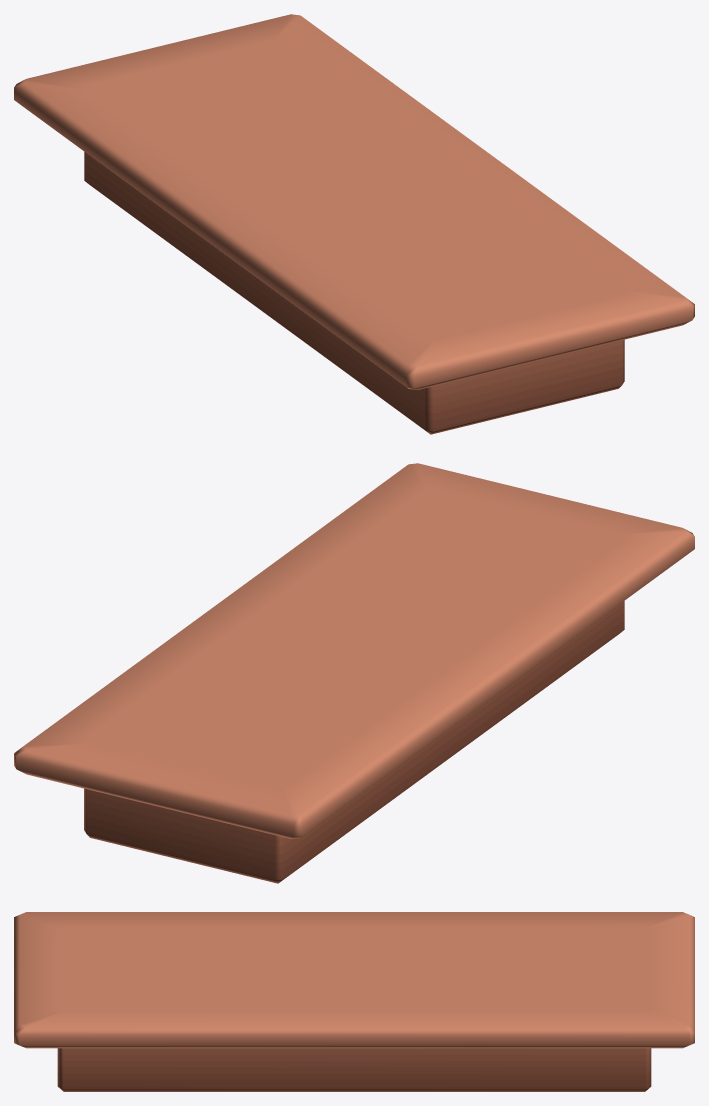
File: SM_Table_01.fbx
3 views of the same model, one above another, from view 1: azimuth 30°, elevation 25°; view 2: azimuth 150°, elevation 25°; view 3: azimuth 270°, elevation 25° (orthographic). The views are drawn at different scales.
Parts seen in each view (by area): view 1: SM_Table_01; view 2: SM_Table_01; view 3: SM_Table_01.
Boxes of the visible parts, x1,y1,x2,y2 form: SM_Table_01: (14,14,694,434); SM_Table_01: (14,463,694,883); SM_Table_01: (14,912,694,1091).
Bounding box in the file's own units: 205 × 65.85 × 490.
1 material, 1 textured.
